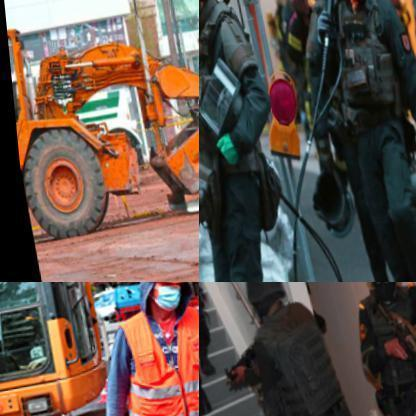vest: (243, 303, 359, 415), (199, 27, 274, 164), (322, 0, 402, 125), (117, 308, 198, 415), (353, 288, 415, 415)
